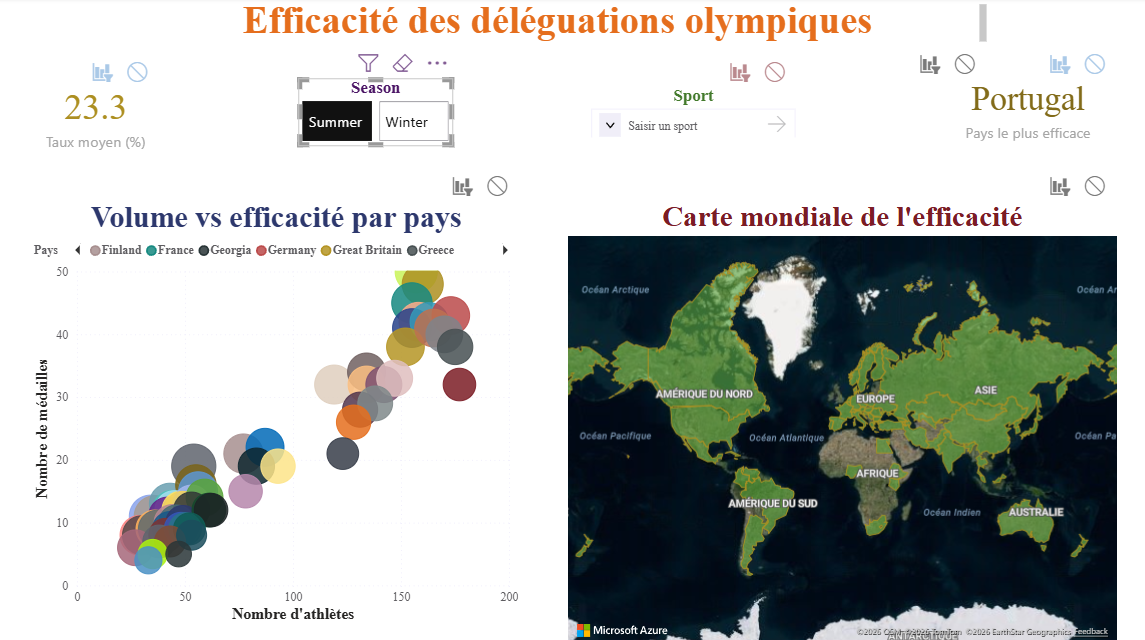

The page's visual inventory and layout, read from the dashboard file:
{"tool":"powerbi","page":{"name":"Page 1","canvas":[1280,720],"ordinal":0},"visuals":[{"type":"azureMap","title":" Carte mondiale de l''efficacité","fields":{"Category":["olympics_athletes_dataset.country_name"]},"box":[629.8,225,621.2,495.2],"z":0},{"type":"PBI_CV_7B952816_A48F_49B4_9E13_15E3BB2C0337","fields":{"Values":["olympics_athletes_dataset.Taux moyen (%)"]},"box":[36.2,98.8,148.9,77.9],"z":1000},{"type":"PBI_CV_7B952816_A48F_49B4_9E13_15E3BB2C0337","fields":{"Values":["olympics_athletes_dataset.Pays le plus efficace"]},"box":[1044.3,90.5,206.7,75.8],"z":2000},{"type":"scatterChart","title":"Volume vs efficacité par pays","fields":{"X":["olympics_athletes_dataset.Nb athletes"],"Y":["olympics_athletes_dataset.Nb medailles"],"Category":["olympics_athletes_dataset.country_name"],"Series":["olympics_athletes_dataset.country_name"]},"box":[36.7,225,549.1,475.7],"z":3000},{"type":"advancedSlicerVisual","title":"Season","fields":{"Values":["olympics_athletes_dataset.games_type"]},"box":[334.9,90.4,172.5,75.1],"z":4000},{"type":"textSlicer","title":"Sport","fields":{"Values":["olympics_athletes_dataset.sport"]},"box":[657.2,99,237.2,57.5],"z":5000},{"type":"textbox","box":[150.3,0,955.8,55.7],"z":6000}]}

Visuals, with their boxes in screenshot pixels (x1, y1, x2, y2), scaled from the page's 1280x720 canvas onto the 1145x640 screenshot:
" Carte mondiale de l''efficacité" azureMap: select_region(563, 200, 1119, 639)
PBI_CV_7B952816_A48F_49B4_9E13_15E3BB2C0337 - olympics_athletes_dataset.Taux moyen (%): select_region(32, 88, 166, 157)
PBI_CV_7B952816_A48F_49B4_9E13_15E3BB2C0337 - olympics_athletes_dataset.Pays le plus efficace: select_region(934, 80, 1119, 148)
"Volume vs efficacité par pays" scatterChart: select_region(33, 200, 524, 623)
"Season" advancedSlicerVisual: select_region(300, 80, 454, 147)
"Sport" textSlicer: select_region(588, 88, 800, 139)
textbox: select_region(134, 0, 989, 50)
